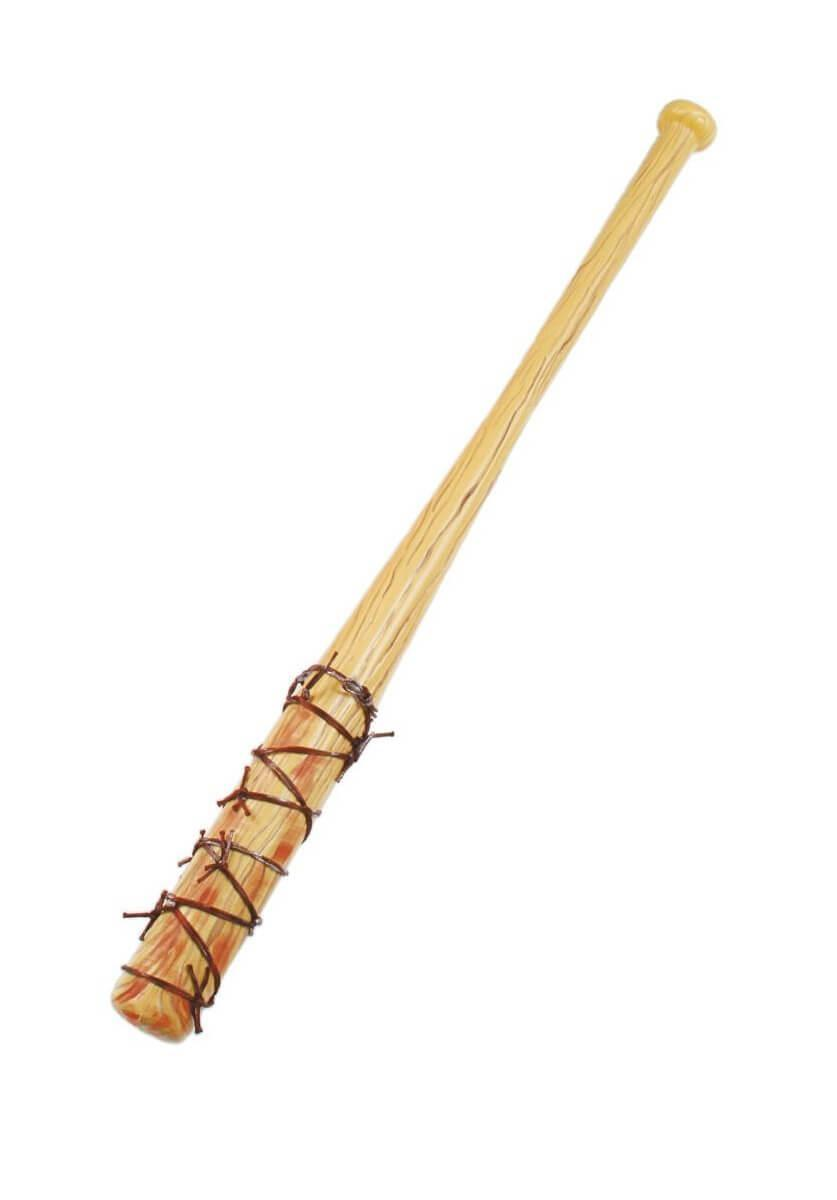Baseball-Bat: (90, 90, 745, 1053)
